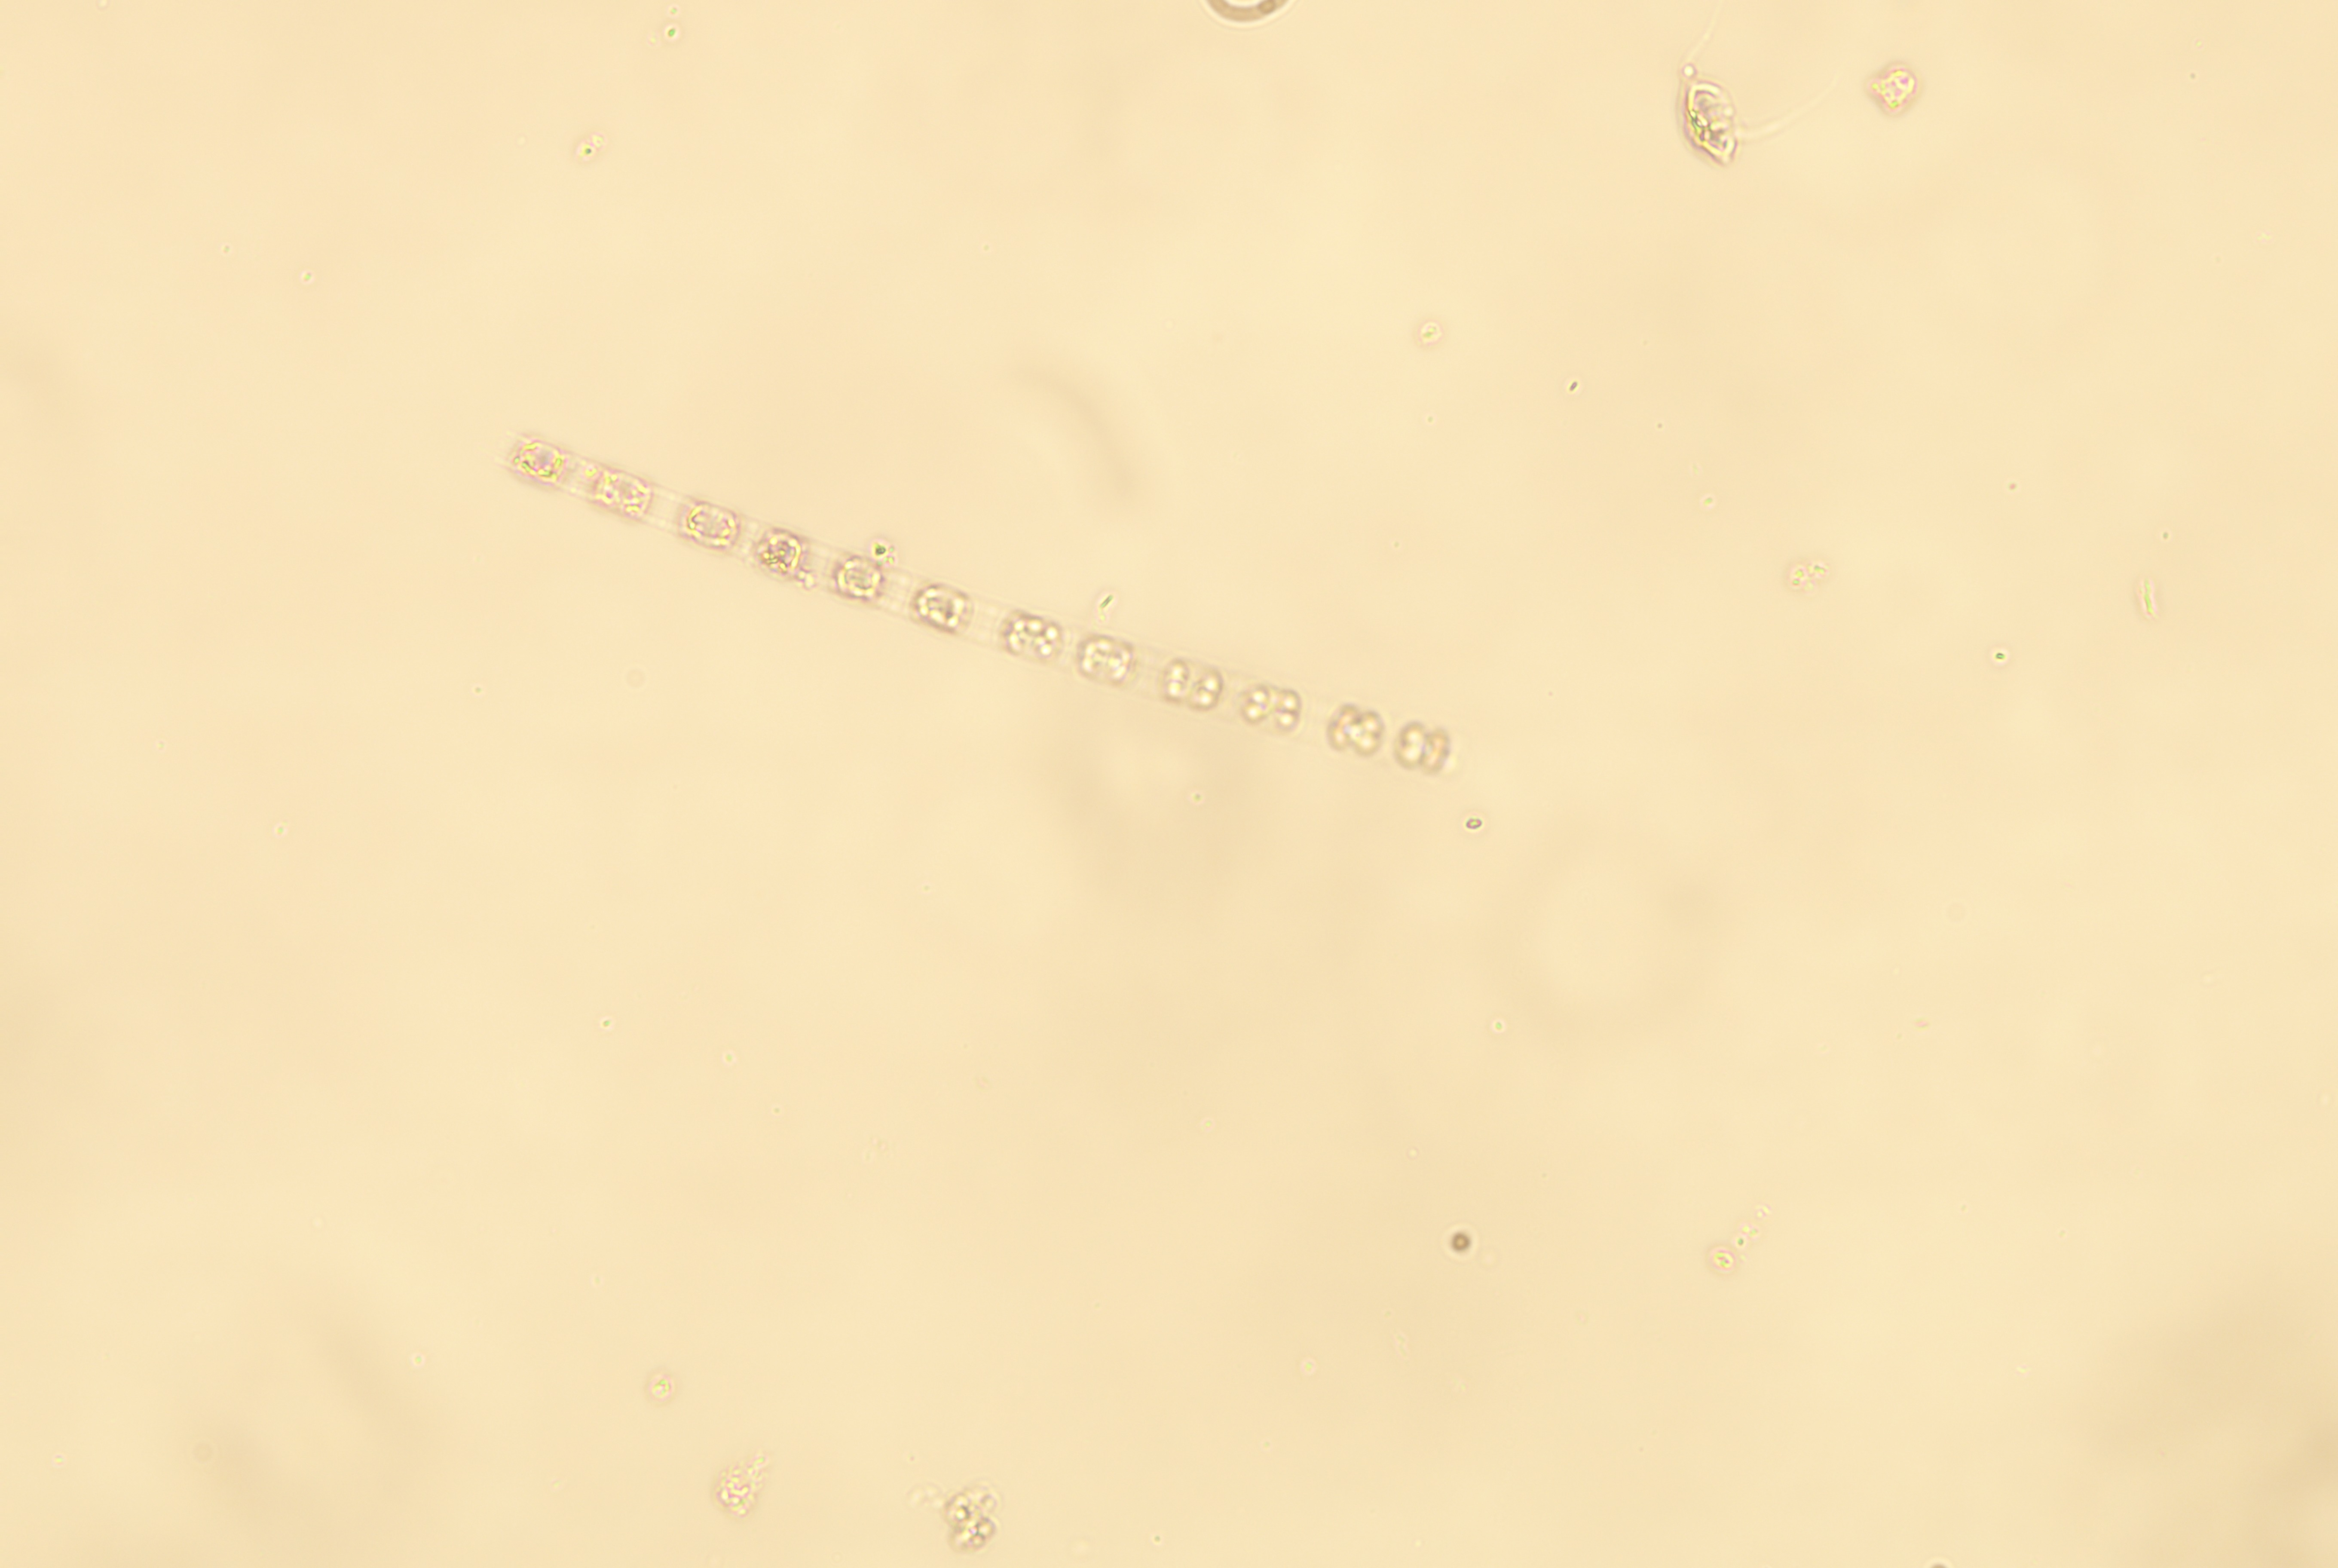skeletonema: (485, 430, 1456, 787)
